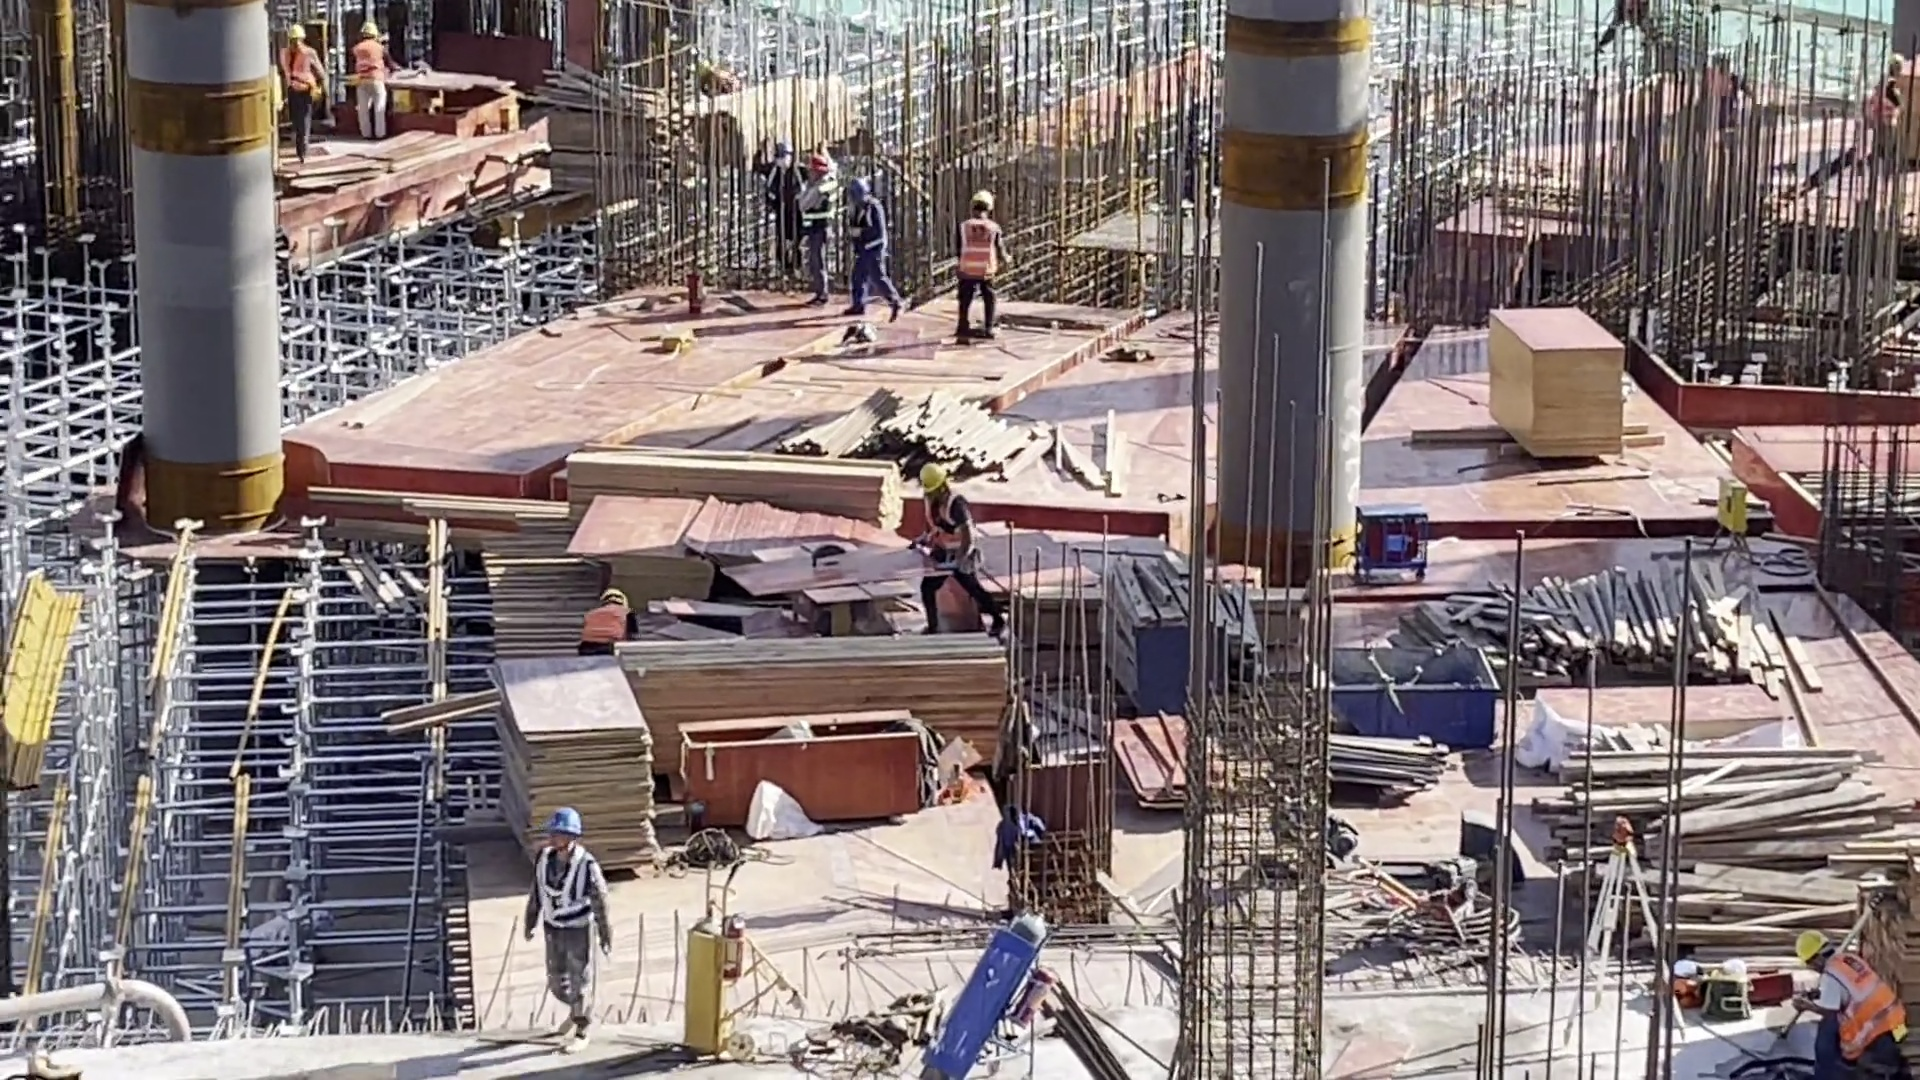board: (480, 667, 657, 874), (1486, 302, 1630, 453), (577, 501, 715, 609), (1108, 701, 1198, 810)
cutter: (723, 532, 920, 633), (374, 70, 517, 141)
ebox: (1714, 475, 1754, 557)
helmet: (1794, 929, 1834, 964), (547, 805, 582, 834), (916, 464, 950, 493), (971, 190, 995, 217), (802, 152, 830, 175), (848, 176, 872, 202), (772, 142, 796, 163), (357, 21, 379, 39), (284, 25, 307, 40)
hopper: (1316, 651, 1494, 752)
person: (517, 804, 610, 1041), (1793, 932, 1909, 1077), (919, 464, 996, 641), (839, 175, 905, 320), (960, 189, 1008, 352), (272, 25, 325, 154), (797, 151, 839, 304), (752, 143, 797, 282), (347, 20, 389, 142), (1865, 55, 1908, 174), (569, 588, 638, 652), (693, 61, 739, 101)
vest: (1821, 951, 1900, 1057), (536, 852, 596, 930), (926, 504, 977, 556), (963, 220, 1002, 288), (576, 607, 631, 650), (848, 202, 888, 260), (802, 176, 837, 229), (278, 43, 316, 92), (763, 166, 800, 211), (1870, 76, 1900, 125), (353, 40, 386, 79)
wood: (1536, 731, 1899, 942), (1369, 559, 1780, 680), (558, 645, 961, 741), (794, 395, 1145, 498), (538, 67, 690, 221), (557, 432, 910, 499), (708, 73, 856, 150)
